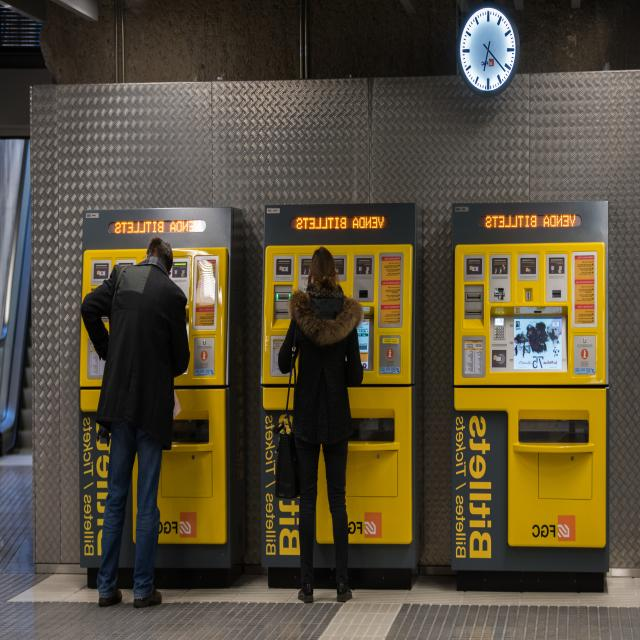tickets-maquina: (451, 202, 609, 592)
